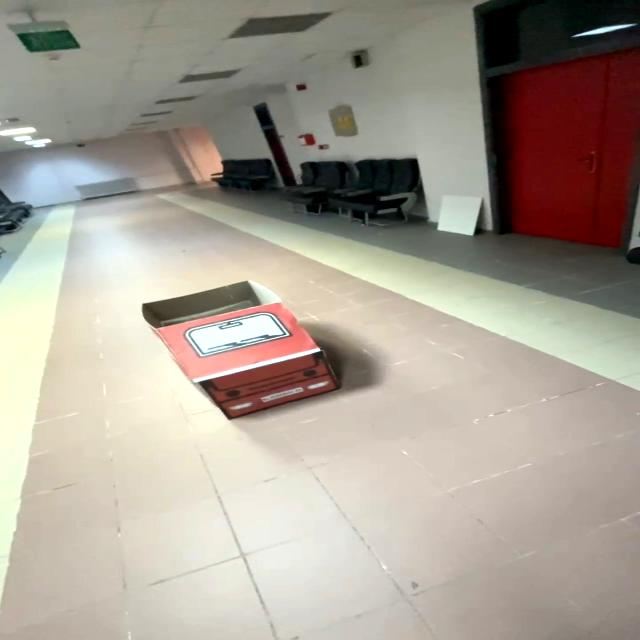red_car: (112, 266, 371, 428)
